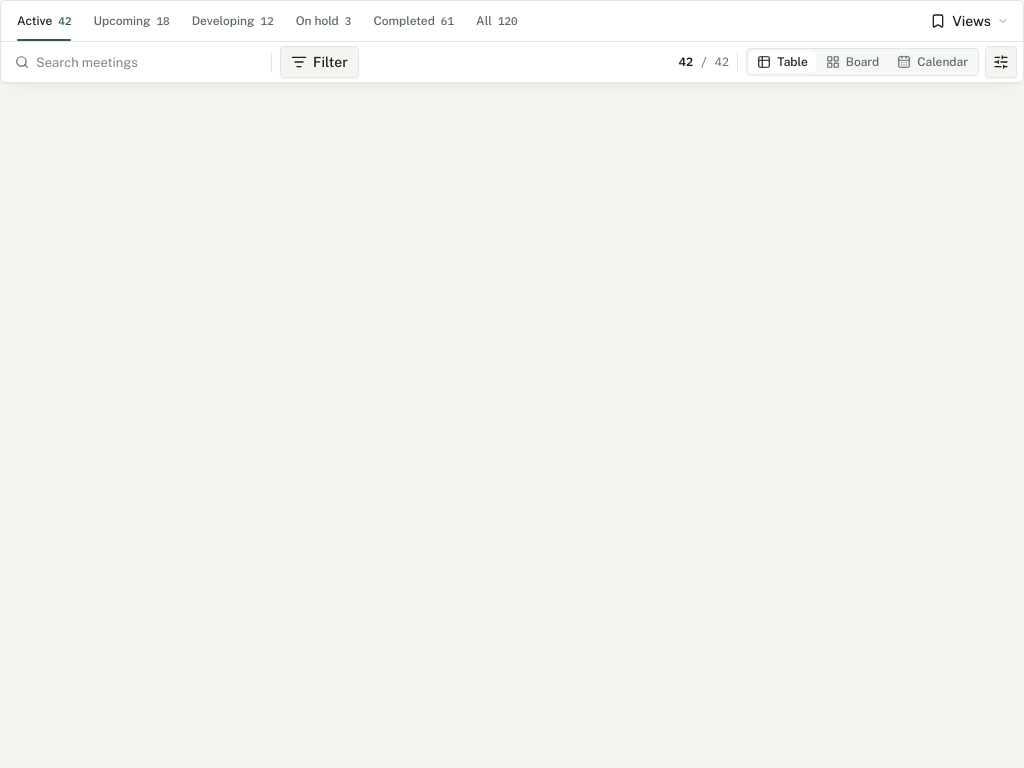
Test: MeetingsToolbar › names the Views popover dialog
The width and height of the screenshot is (1024, 768).
Click the button "Views": (970, 21) [920, 5, 1019, 37]
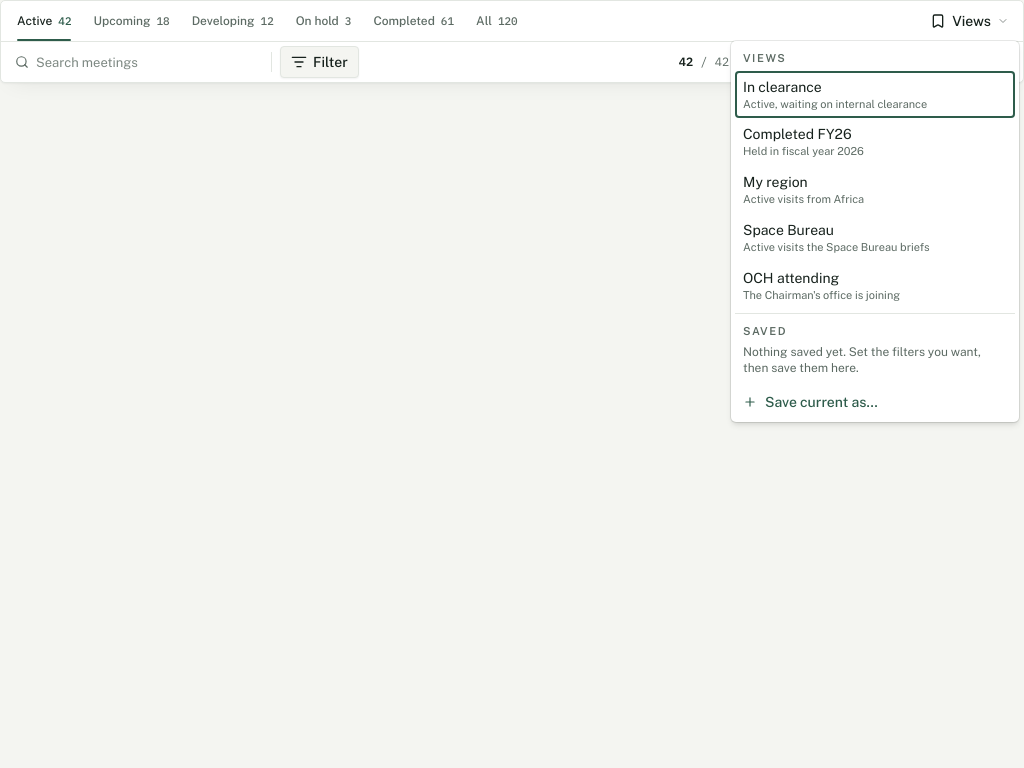
Result: the dialog "Views" is shown at [731, 41, 1019, 422]
